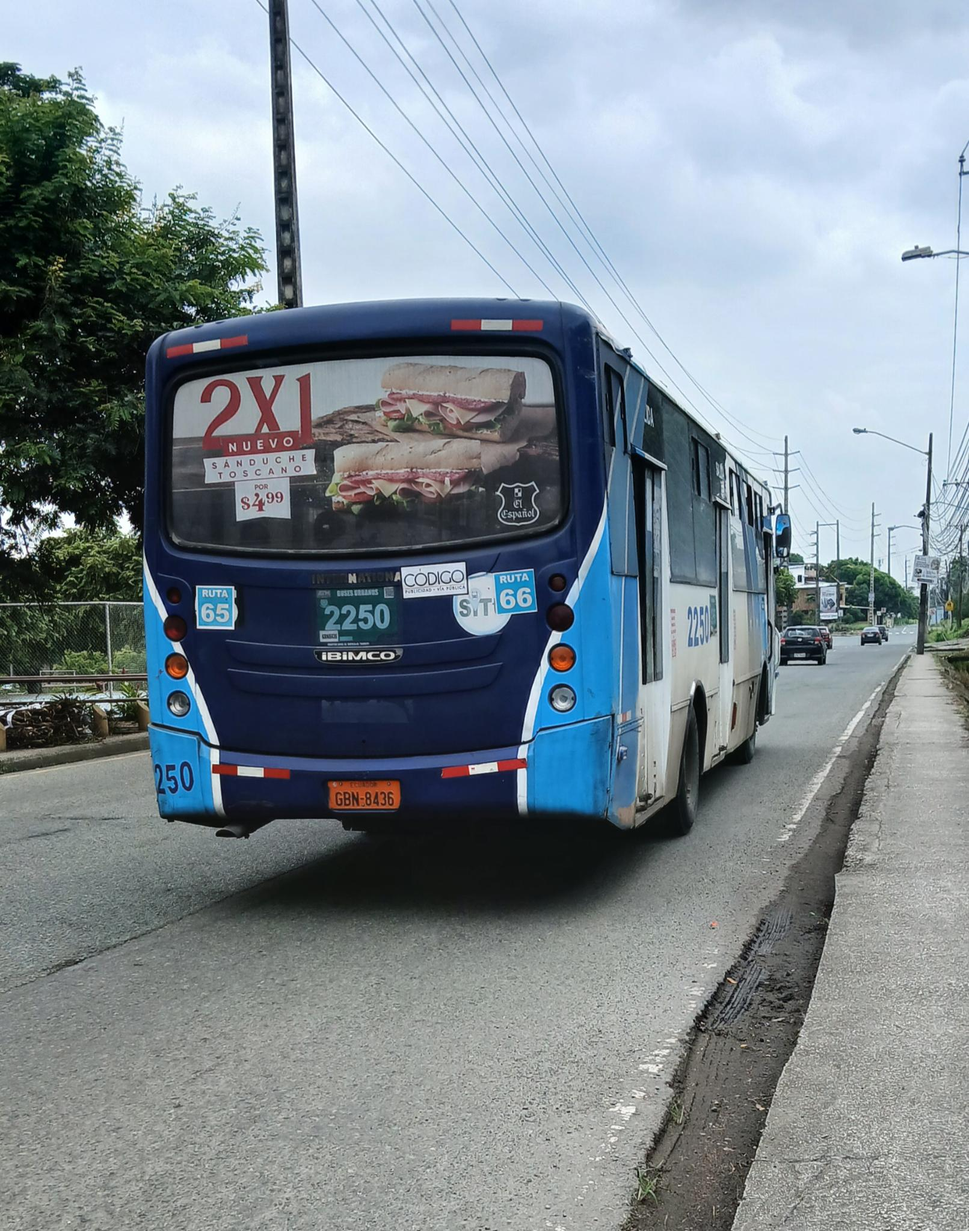license_plate: (327, 781, 400, 811), (793, 653, 807, 658)
